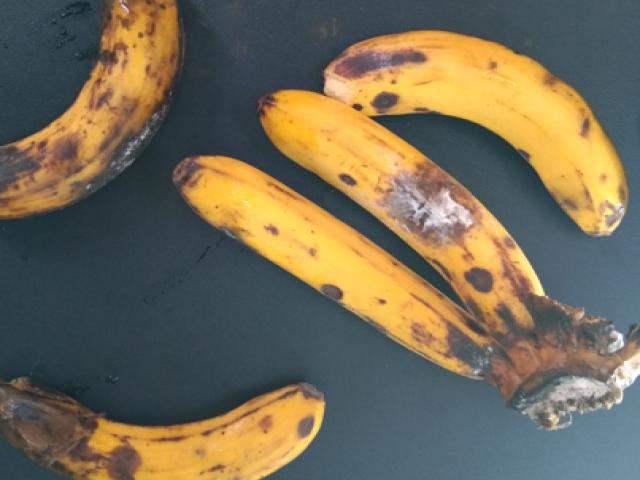overripe: (183, 147, 491, 379), (258, 80, 536, 334), (322, 20, 630, 249)
rotten: (0, 0, 195, 229), (0, 352, 320, 479)
